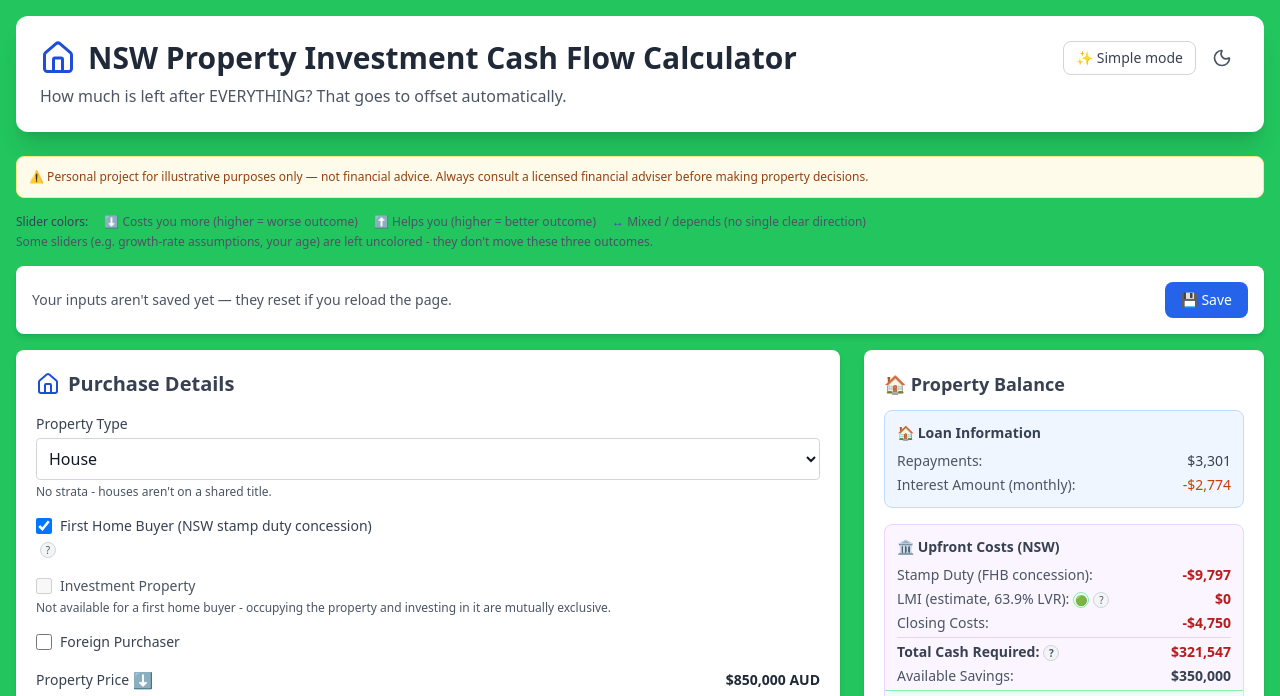
Test: Save › writes a versioned payload to localStorage and flips the banner/Reset button
Click the button "💾 Save" at [1206, 300], box [1165, 282, 1248, 318]
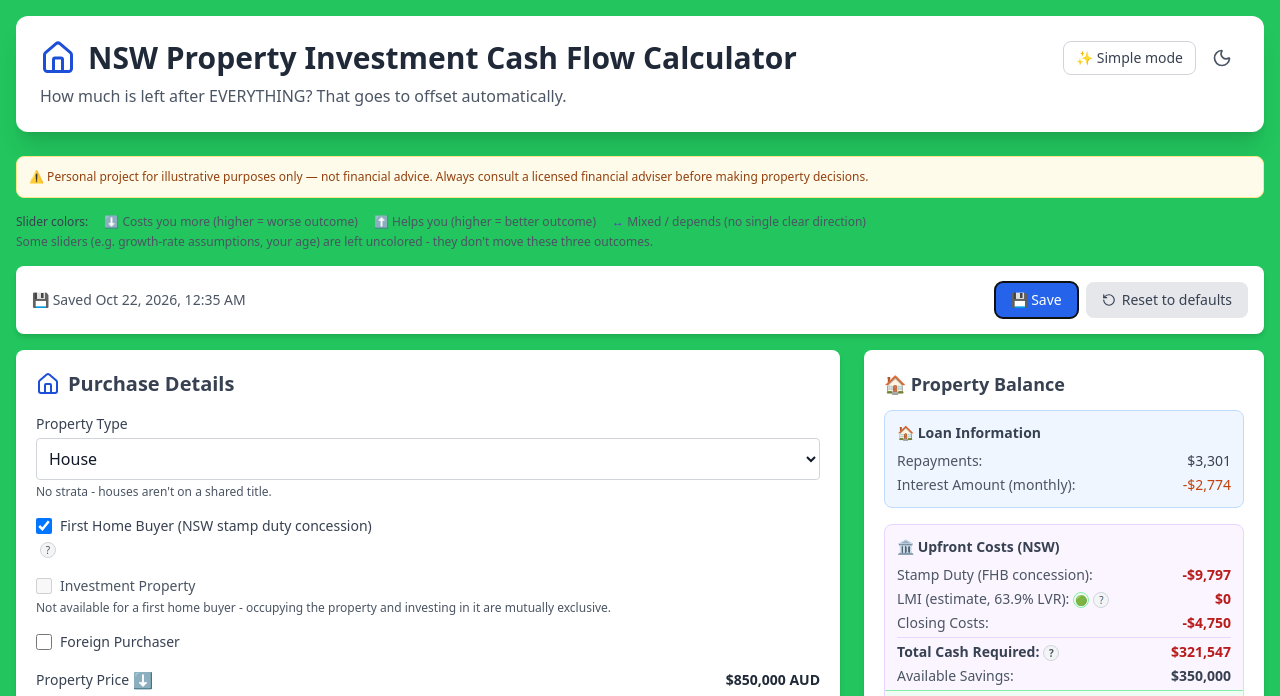
Expected: the text "💾 Saved Oct 22, 2026, 12:35 AM" is shown, [32, 290, 246, 310]
Expected: the button "Reset to defaults" is shown, [1086, 282, 1248, 318]
